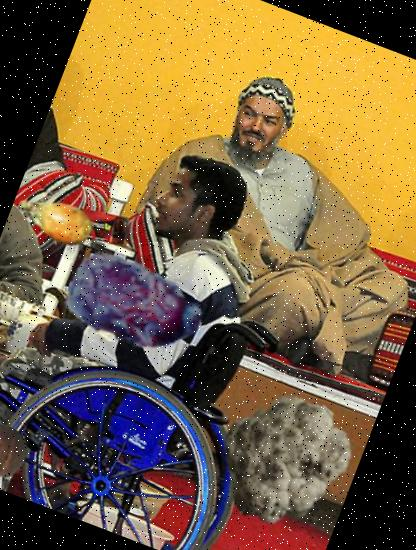Cactus: (3, 169, 105, 270)
Cauliflower: (189, 369, 370, 550)
Dates: (45, 214, 225, 394)
Walnut: (0, 418, 35, 486)
